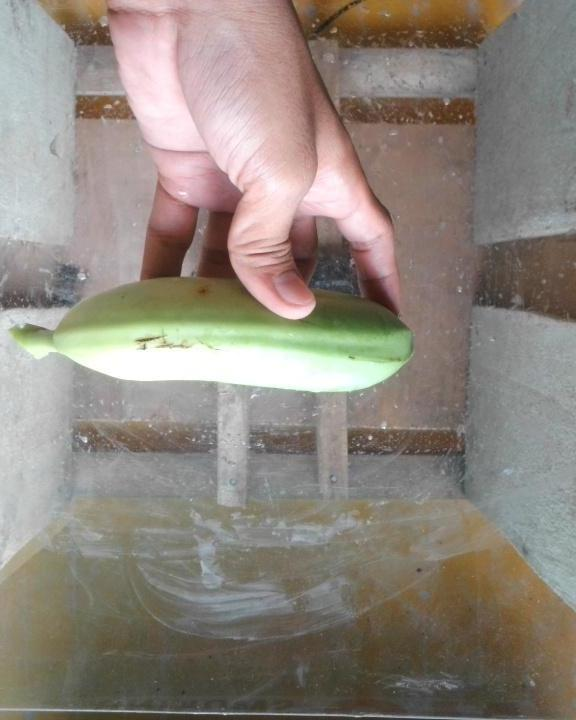CLASS B: (12, 266, 430, 415)
Class A: (125, 313, 192, 364)
